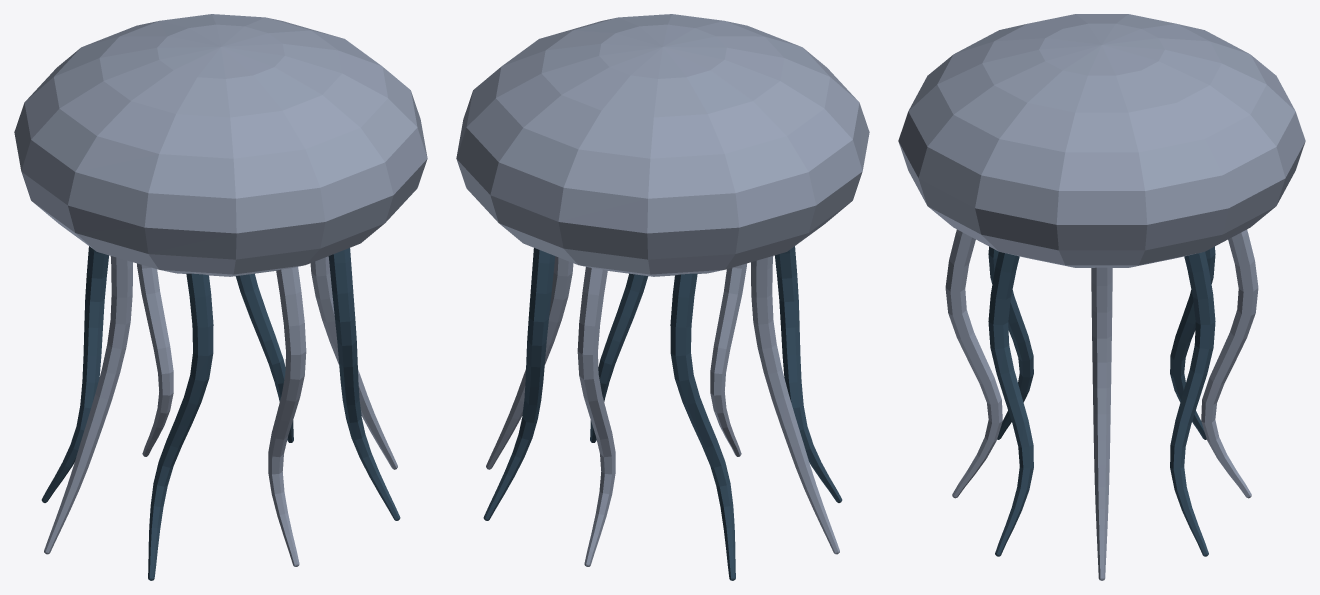
The model's file is moon-jellyfish.dae.
3 renders of one model, left to right at view 1: azimuth 30°, elevation 25°; view 2: azimuth 150°, elevation 25°; view 3: azimuth 270°, elevation 25°, orthographic. The views are drawn at different scales.
Parts seen in each view (by area): view 1: part1-node, part0-node; view 2: part1-node, part0-node; view 3: part1-node, part0-node.
Part boxes in pixels (x1,y1,x2,y2): part1-node: (14, 14, 427, 566); part0-node: (41, 246, 400, 580); part1-node: (456, 14, 869, 566); part0-node: (483, 246, 842, 580); part1-node: (898, 14, 1305, 580); part0-node: (988, 246, 1215, 556).
Bounding box in the file's own units: 0.32 × 0.3282 × 0.4028.
